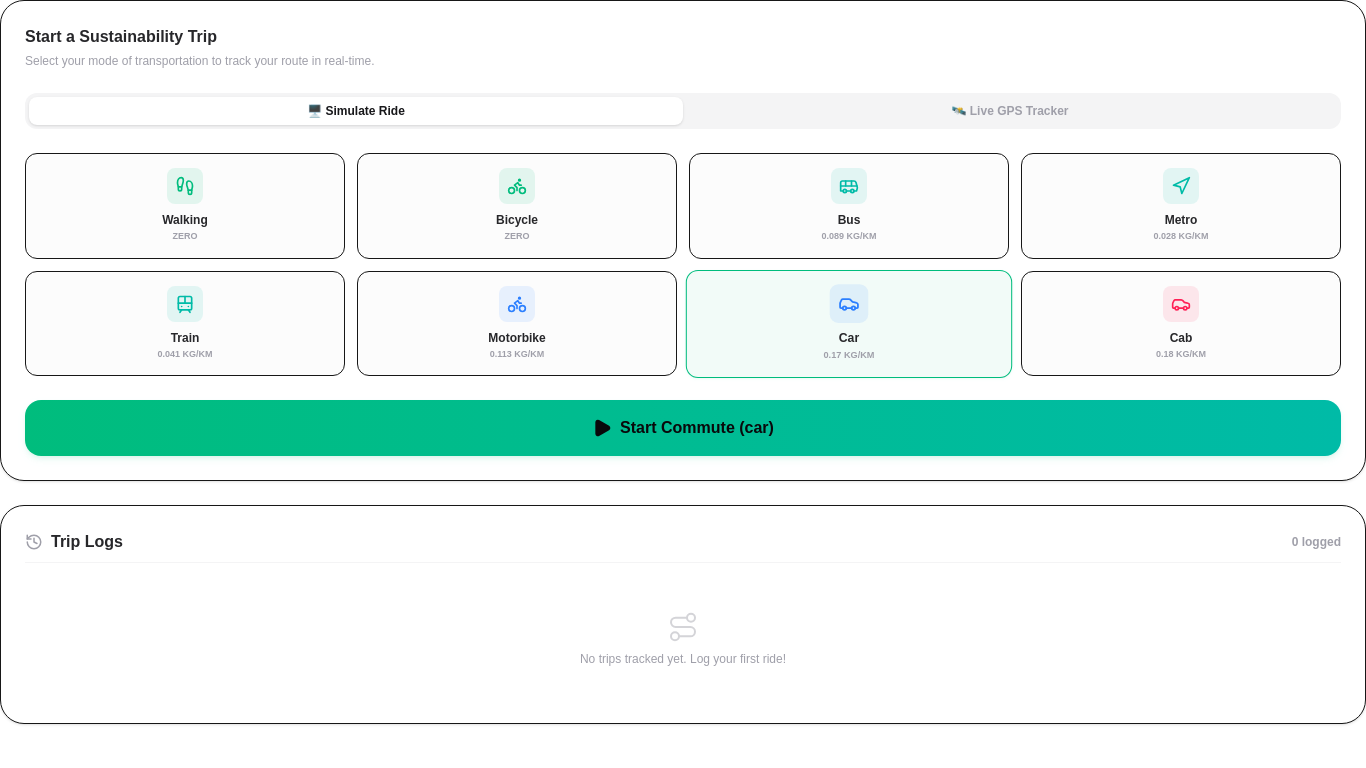
Scenario: TravelTracker UI and Commute Flow integration tests › Graceful GPS permission failure handling › gracefully handles PERMISSION_DENIED by switching to simulation and continuing tracking
# Switch to GPS mode
Click the button "🛰️ Live GPS Tracker".
click(1010, 111)  # box [683, 97, 1337, 125]
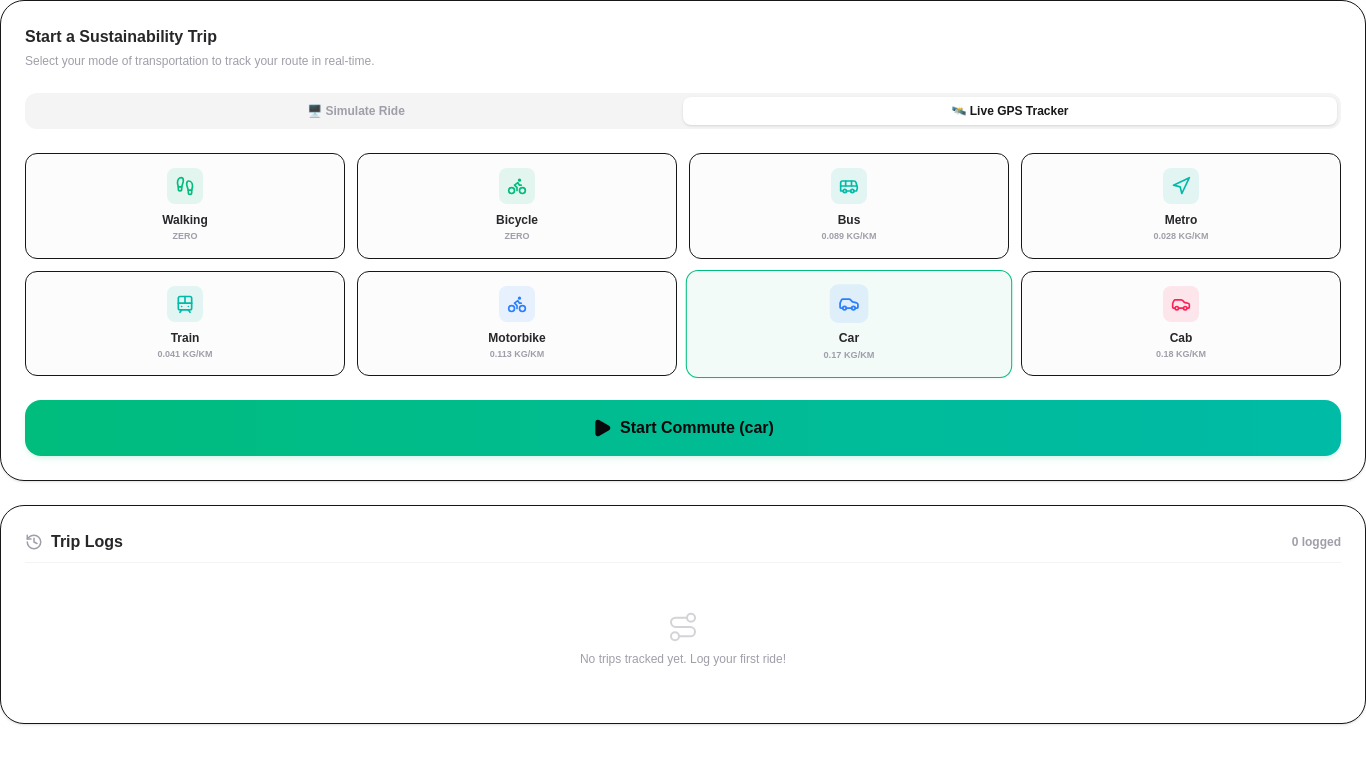
# Start commute
Click the button "Start Commute (car)".
click(683, 428)  # box [25, 400, 1341, 456]
Wait 3000 ms
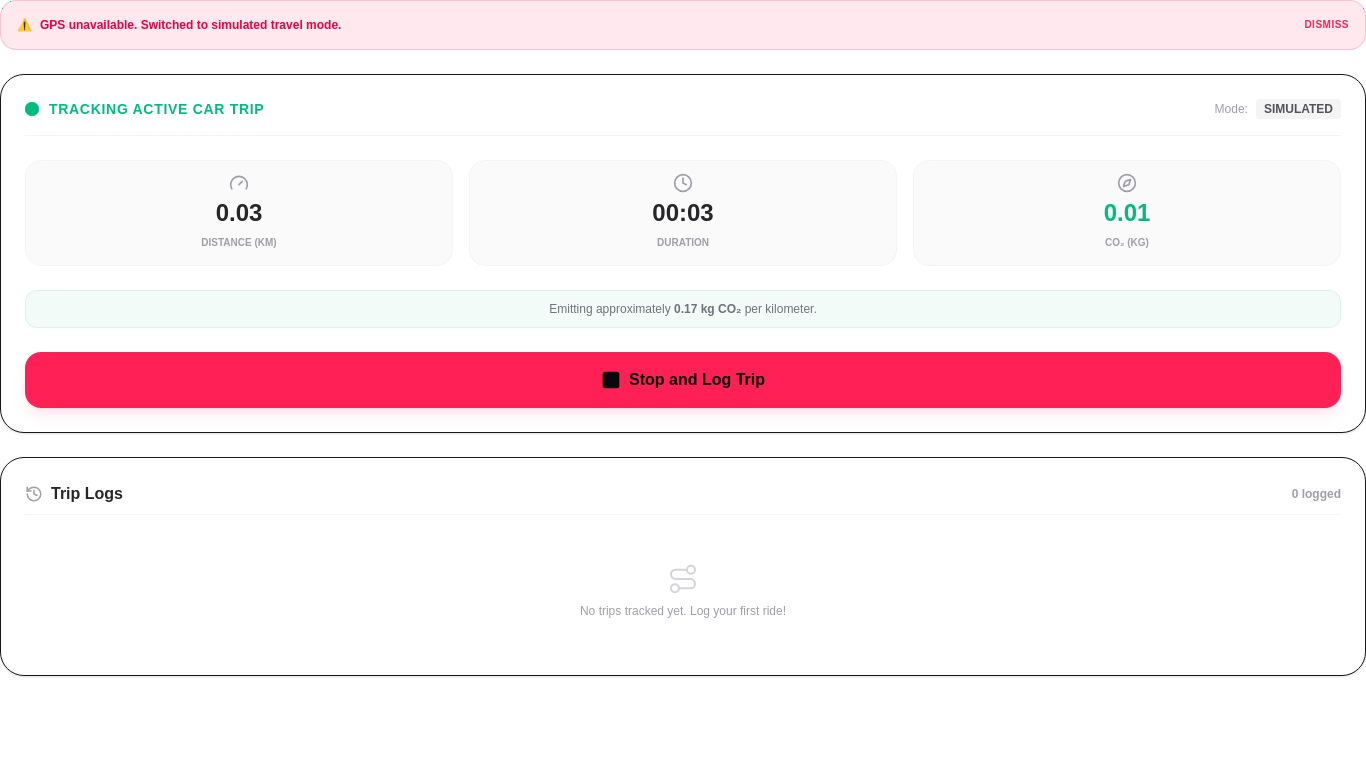
Now the text "GPS unavailable. Switched to simulated travel mode." is shown, box [40, 17, 341, 33]
